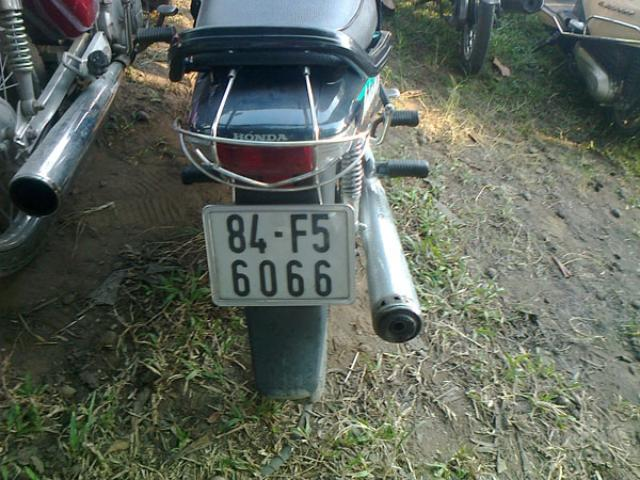plate: (212, 210, 351, 304)
